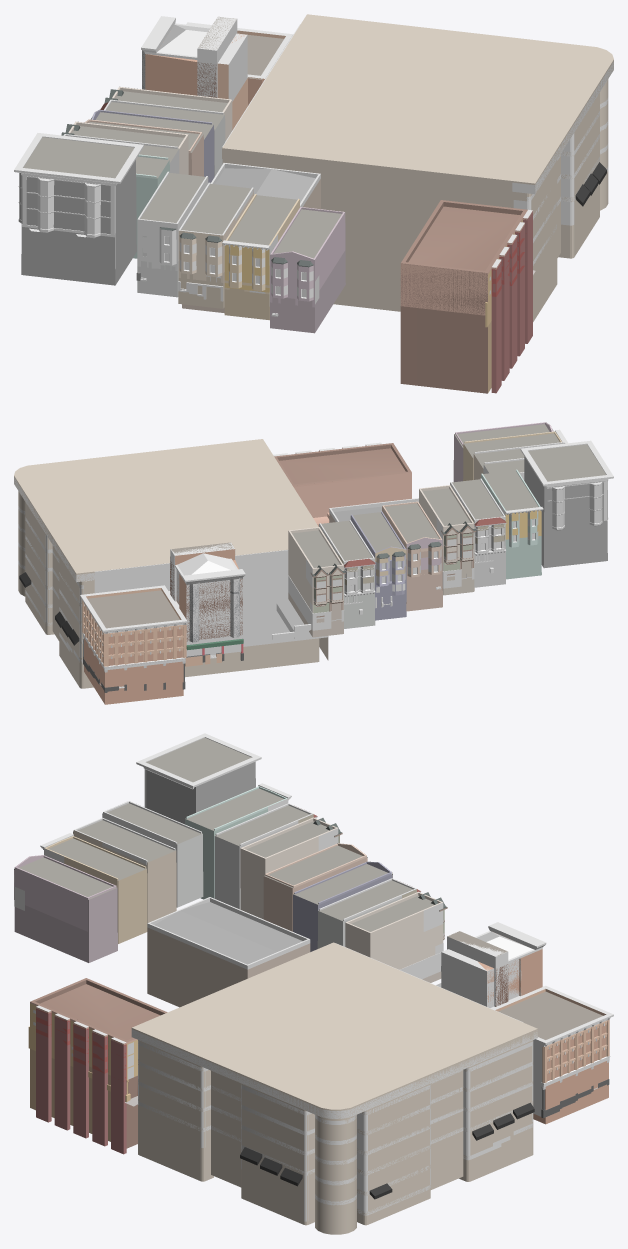
The model's file is city_block1.dae.
3 renders of one model, top to bottom at view 1: azimuth 30°, elevation 25°; view 2: azimuth 150°, elevation 25°; view 3: azimuth 270°, elevation 25°, orthographic. The views are drawn at different scales.
Parts seen in each view (by area): view 1: city_block1_a1500, city_block1_a3000; view 2: city_block1_a1500, city_block1_a3000; view 3: city_block1_a1500, city_block1_a3000.
Boxes of the visible parts, bbox=[...] form: city_block1_a1500: bbox=[21, 14, 613, 393]; city_block1_a3000: bbox=[14, 16, 613, 327]; city_block1_a1500: bbox=[14, 424, 607, 704]; city_block1_a3000: bbox=[14, 422, 613, 692]; city_block1_a1500: bbox=[14, 737, 608, 1234]; city_block1_a3000: bbox=[14, 733, 613, 1221].
Size of the model in its own units: 154 by 135 by 54.27.
